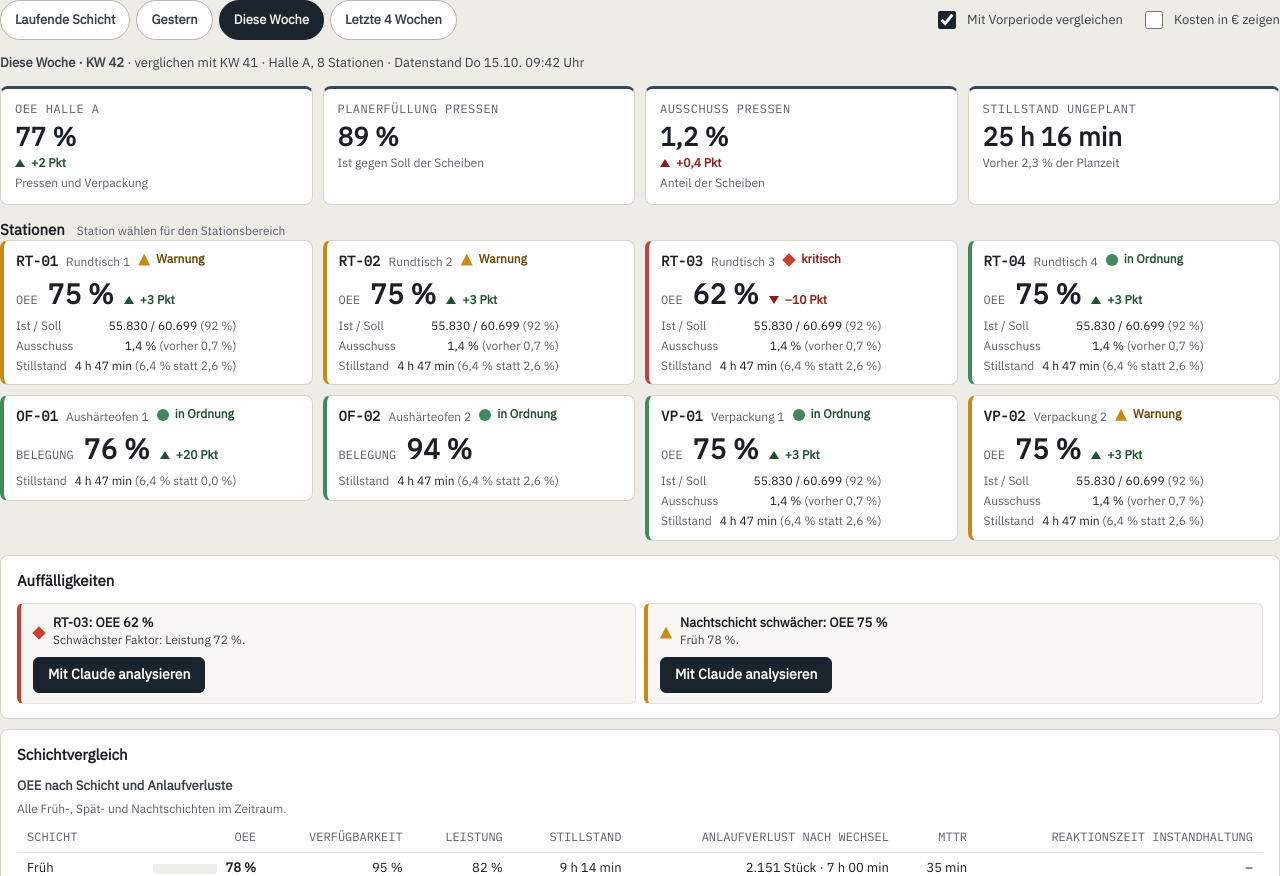
Test: Mit Claude analysieren › zeigt die Auffälligkeiten einer Station im Stationsbereich
This screenshot has width=1280, height=876.
Step 1. Click the button with class "mc-tile" that starts with "RT-03" → (801, 313), box [645,240,958,385]
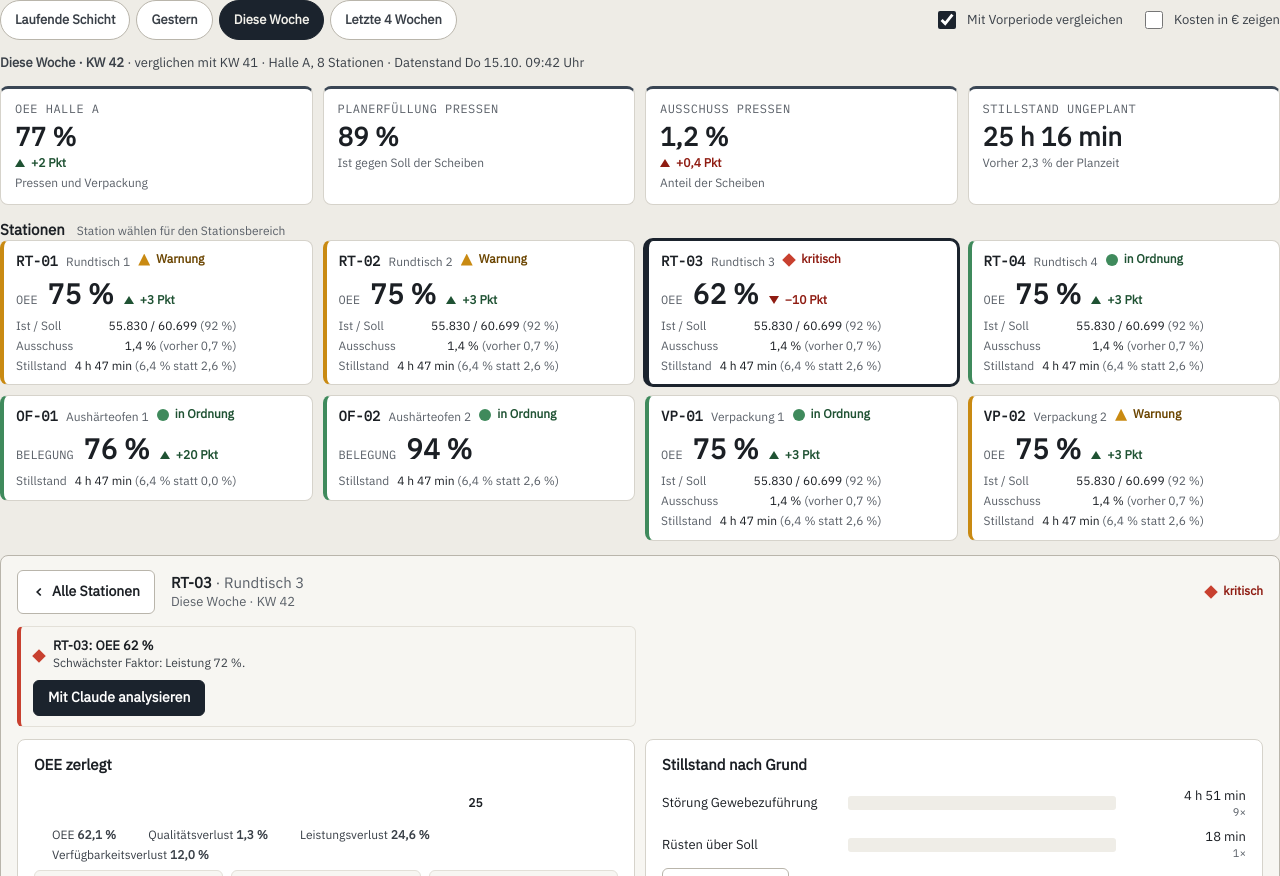
Now the list with class "mc-findings" shows "RT-03: OEE 62 %", box [53,636,154,654]
